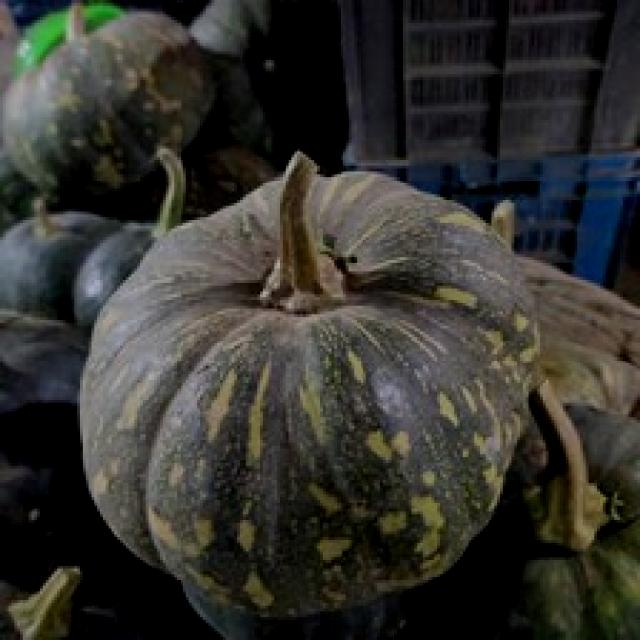Pumpkin: (88, 145, 562, 632), (0, 7, 248, 243)
